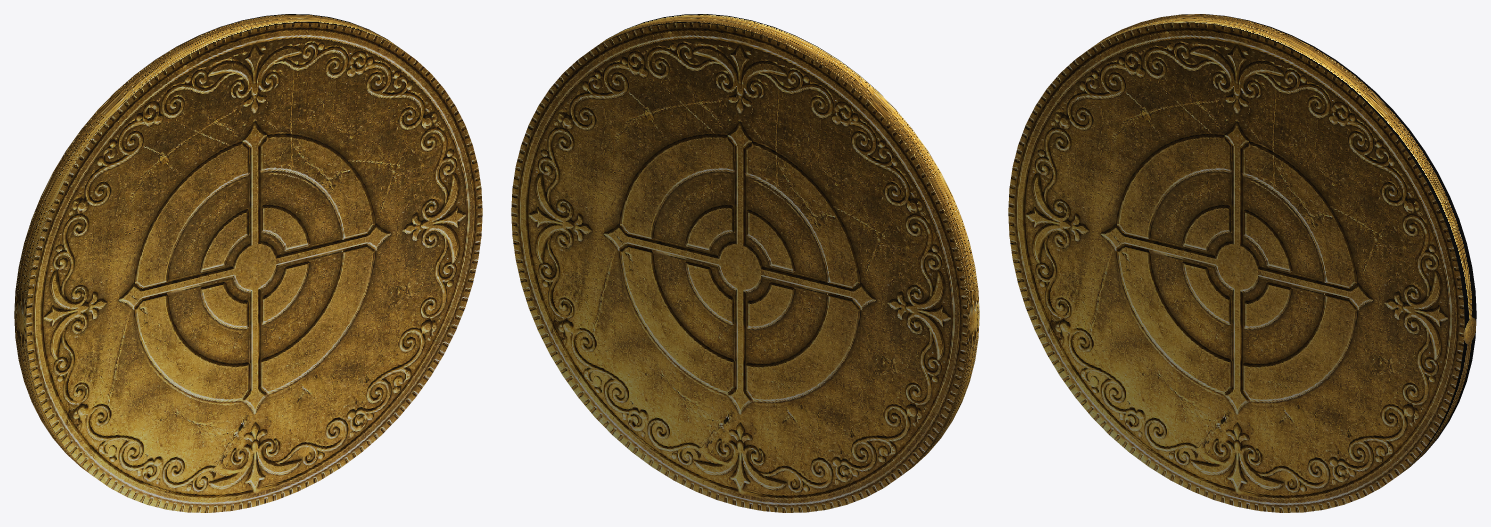
Rendered from coin.glb.
3 views of the same model, side by side, from view 1: azimuth 30°, elevation 25°; view 2: azimuth 150°, elevation 25°; view 3: azimuth 330°, elevation 25° (orthographic).
Visible parts, largest first — view 1: Coin; view 2: Coin; view 3: Coin.
Boxes of the visible parts, x1=… form: Coin: x1=14, y1=14, x2=482, y2=512; Coin: x1=511, y1=14, x2=979, y2=512; Coin: x1=1008, y1=14, x2=1476, y2=512.
Size of the model in its own units: 2 by 2 by 0.09.
1 material, 1 textured.
